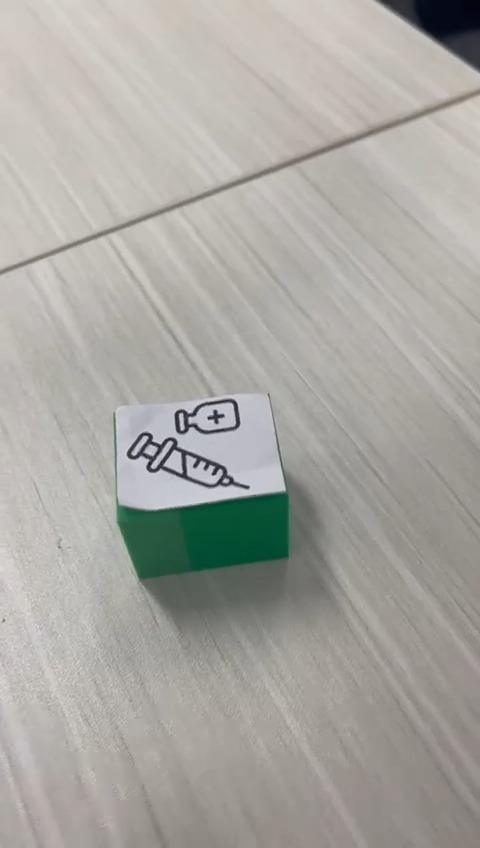antiseptic cream: (112, 391, 291, 581)
